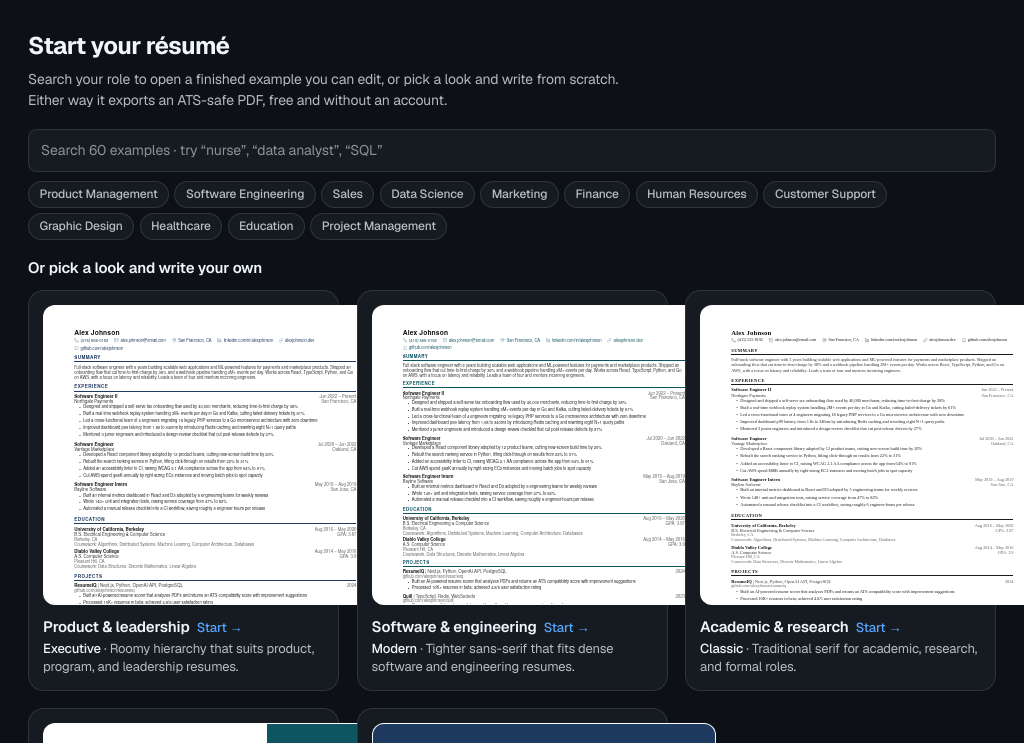
it: the cold open can find your role › clear returns the picker to its resting state
This screenshot has width=1024, height=743.
Type "nurse" into the search field with placeholder "Search 60 examples · try “nurse”, “data analyst”, “SQL”" at {"x": 512, "y": 150}, box [28,129,996,172]
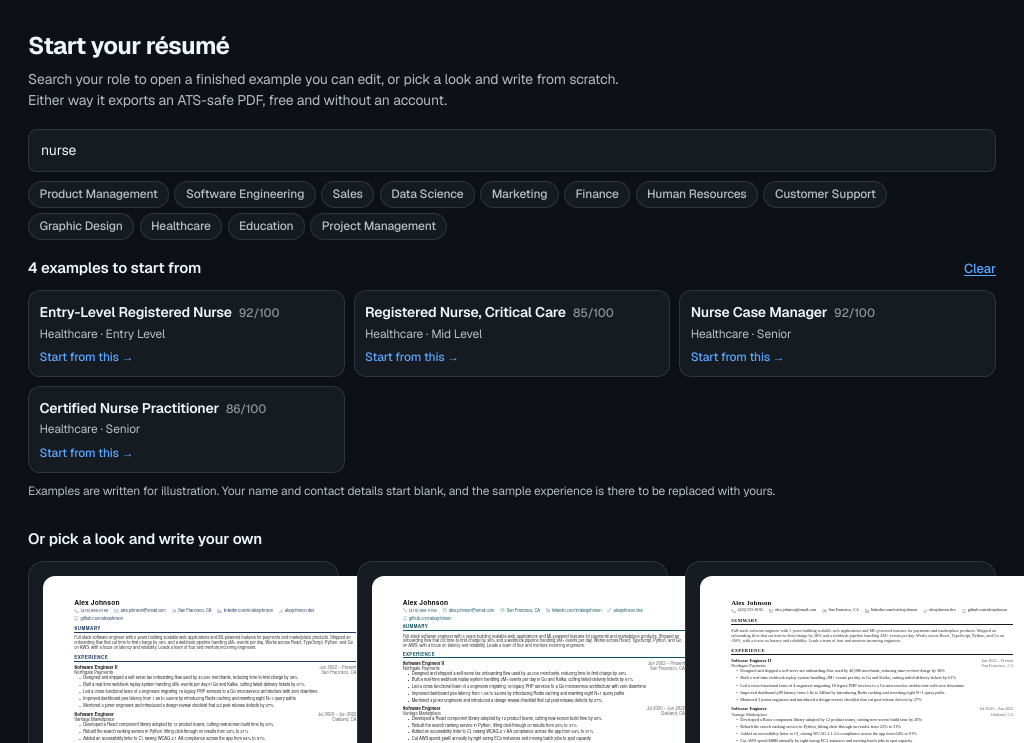
Click the button "Clear" at {"x": 980, "y": 269}, box [964,259,996,279]
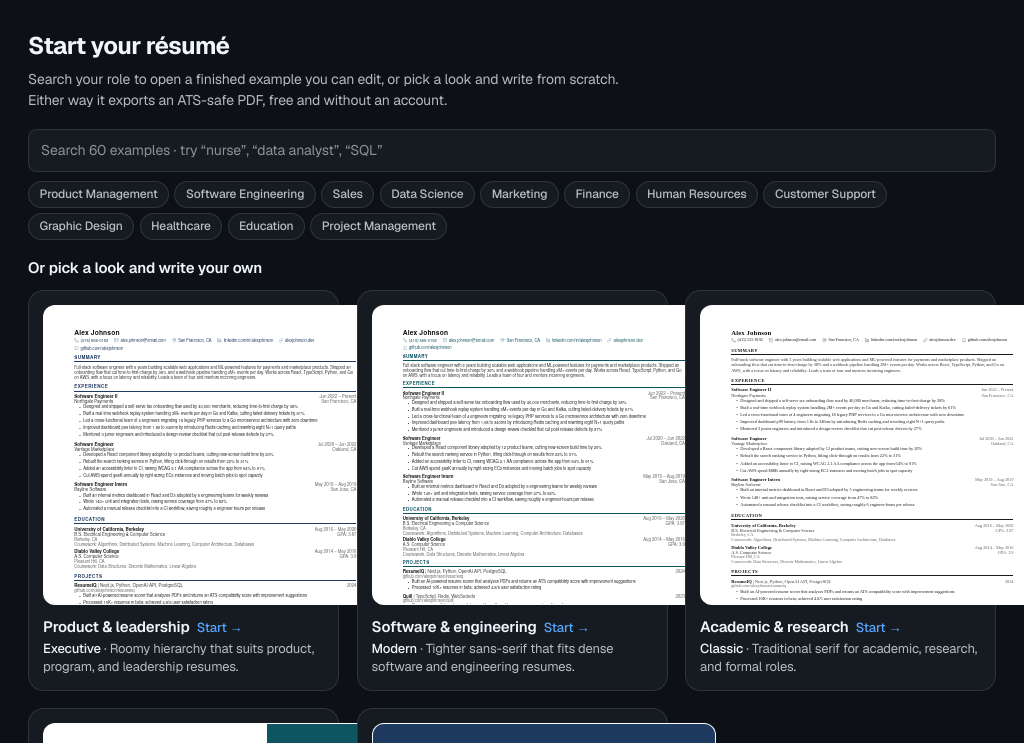
Expected: the search field with placeholder "Search 60 examples · try “nurse”, “data analyst”, “SQL”" is empty, [28,129,996,172]
